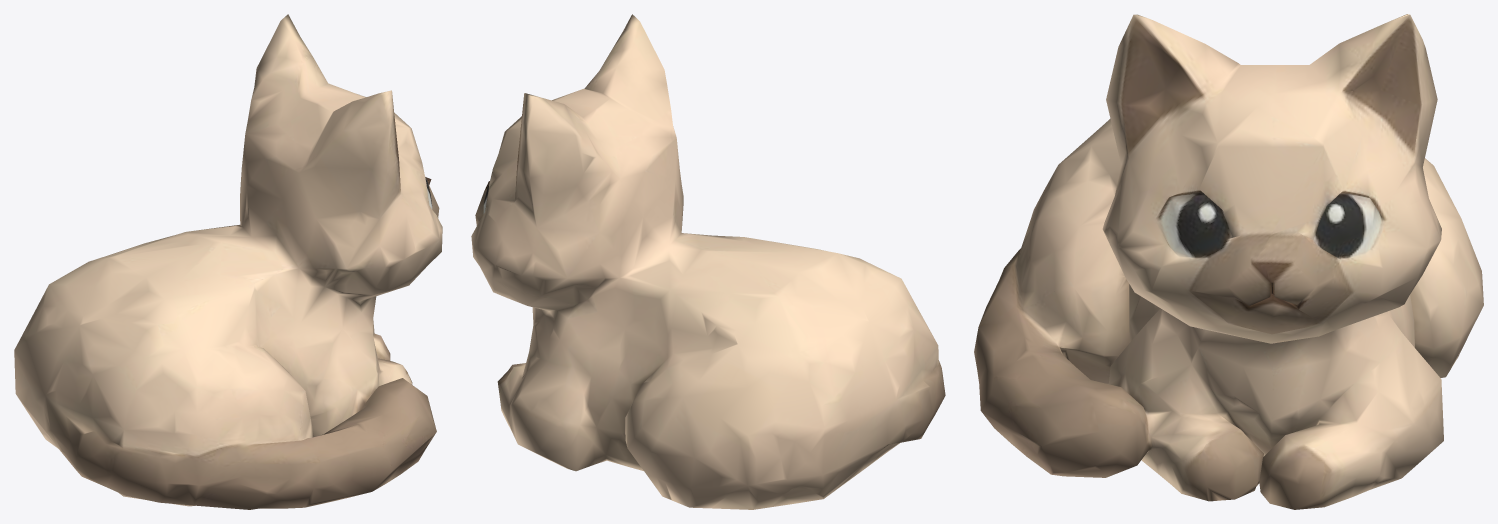
Rendered from cat-loaf.glb.
3 renders of one model, left to right at view 1: azimuth 30°, elevation 25°; view 2: azimuth 150°, elevation 25°; view 3: azimuth 270°, elevation 25°, orthographic. The views are drawn at different scales.
Parts seen in each view (by area): view 1: tripo_node_7fd5dab3-a8b7-4f29-b174-03f6ac37de7b; view 2: tripo_node_7fd5dab3-a8b7-4f29-b174-03f6ac37de7b; view 3: tripo_node_7fd5dab3-a8b7-4f29-b174-03f6ac37de7b.
Boxes of the visible parts, x1,y1,x2,y2 form: tripo_node_7fd5dab3-a8b7-4f29-b174-03f6ac37de7b: (14,14,442,509); tripo_node_7fd5dab3-a8b7-4f29-b174-03f6ac37de7b: (471,14,945,509); tripo_node_7fd5dab3-a8b7-4f29-b174-03f6ac37de7b: (974,14,1483,509).
Size of the model in its own units: 1 by 0.8489 by 0.8469.
1 material, 1 textured.
